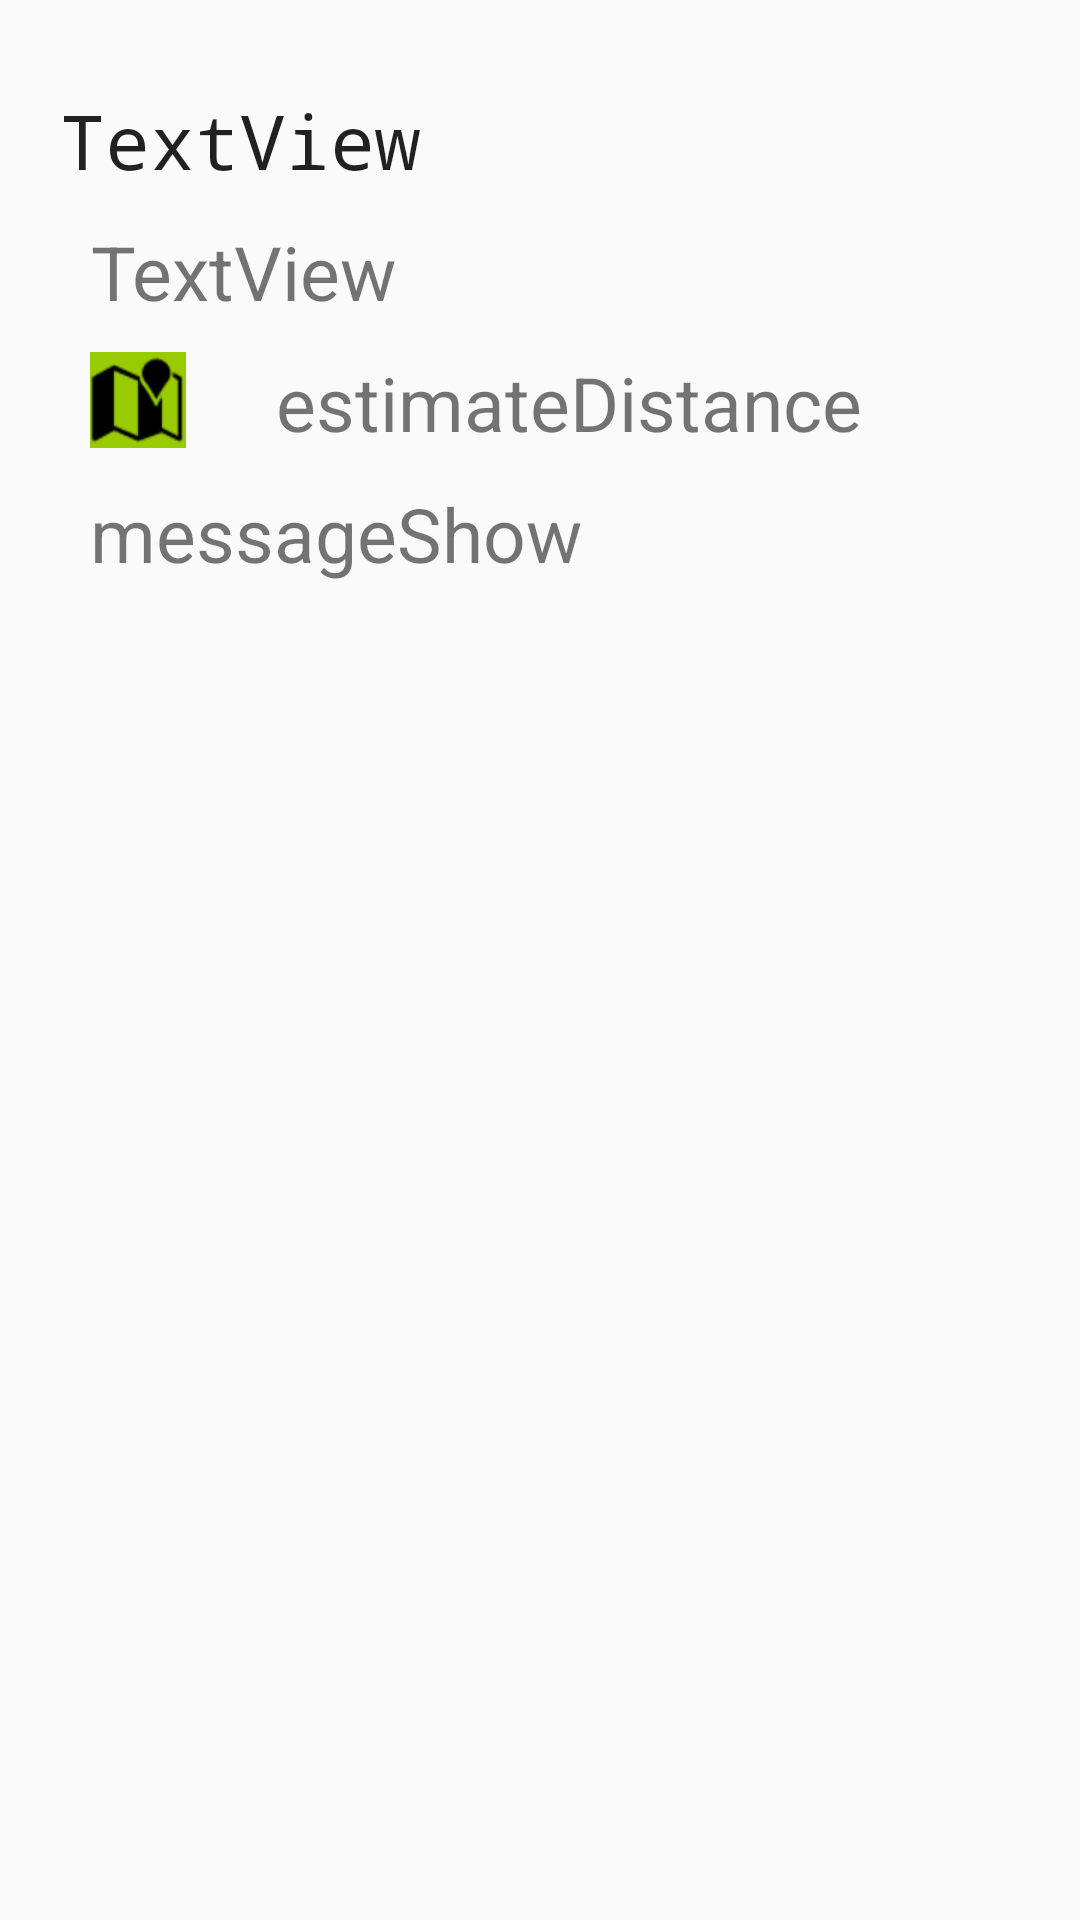

Icon bounding boxes for this 1080*1920 phone screenshot, format (x1, y1, x2, y2):
map: (90, 352, 186, 448)
